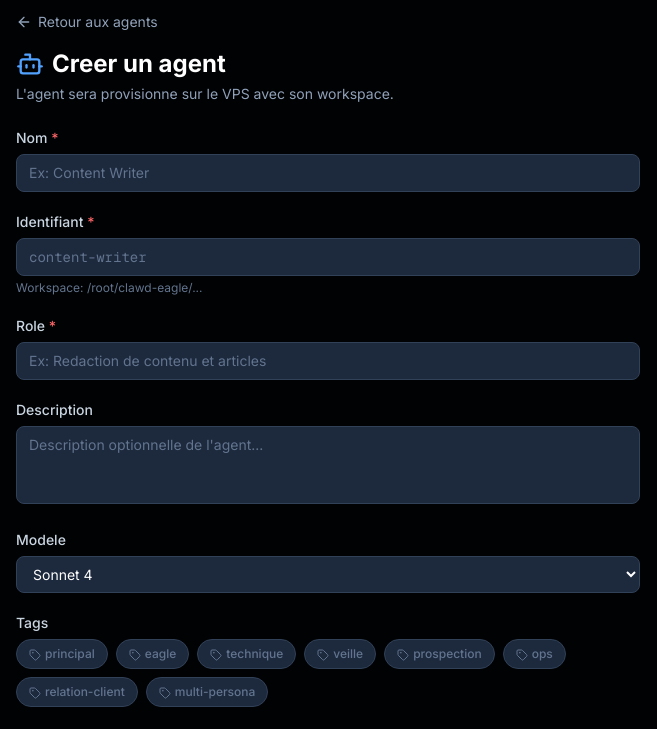
Test case: NewAgentPage › handles accented characters in slug
Type "Agent Éclaireur" into the field with placeholder "Ex: Content Writer" at (328, 173), box [16,154,640,192]
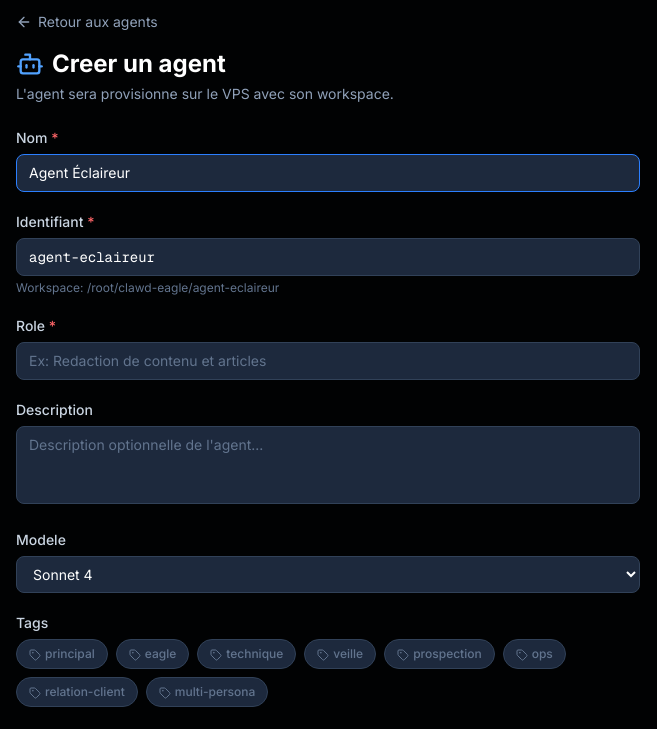
Check: the field with placeholder "content-writer" holds "agent-eclaireur", box [16,238,640,276]
